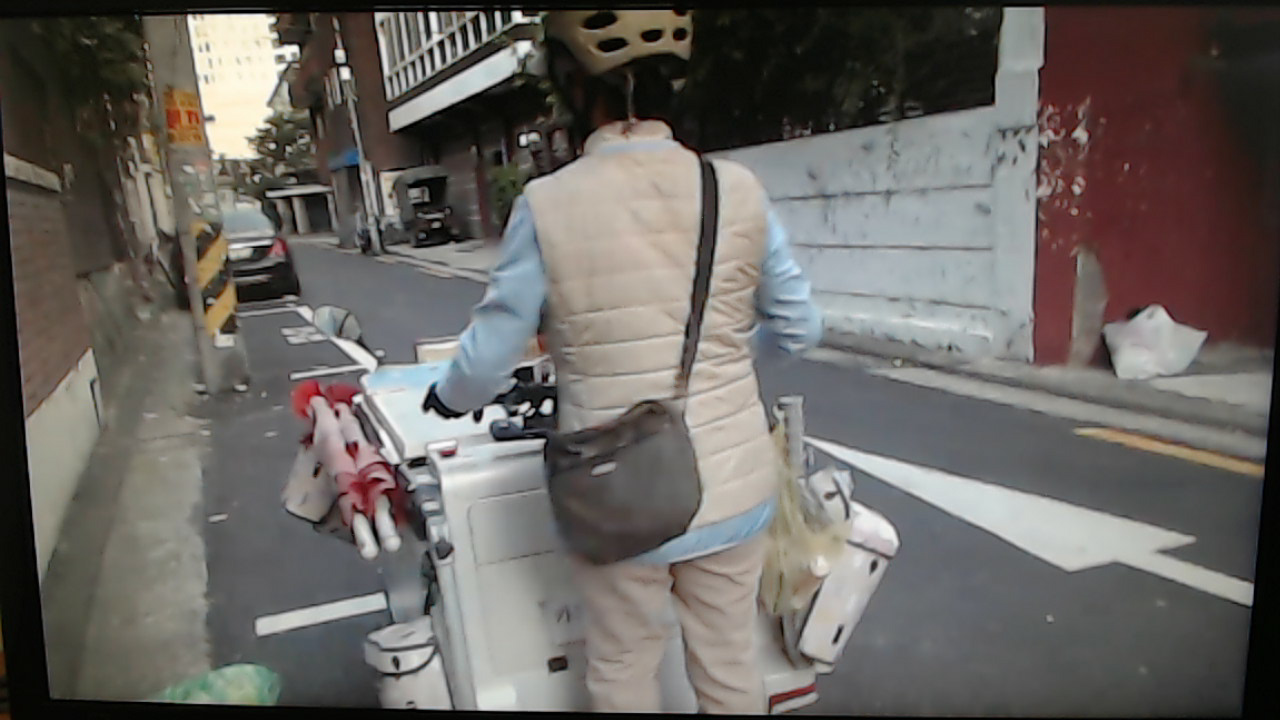Yakurut: (467, 13, 833, 716)
